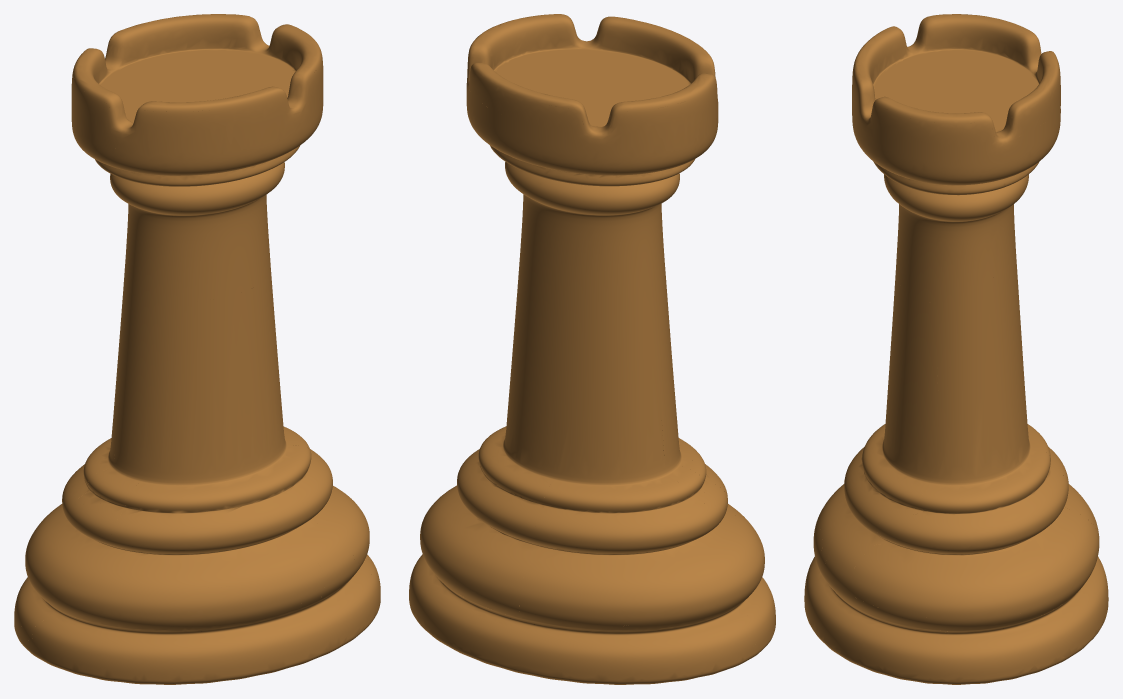
File: gercek3_r_w.glb
3 renders of one model, left to right at view 1: azimuth 30°, elevation 25°; view 2: azimuth 150°, elevation 25°; view 3: azimuth 270°, elevation 25°, orthographic. The views are drawn at different scales.
Parts seen in each view (by area): view 1: Object_23, Object_24; view 2: Object_23, Object_24; view 3: Object_24, Object_23.
Boxes of the visible parts, box(x1,y1,x2,y2) form: Object_23: box(14, 54, 380, 684); Object_24: box(18, 14, 371, 640); Object_23: box(409, 52, 775, 684); Object_24: box(420, 14, 758, 662); Object_24: box(820, 14, 1099, 647); Object_23: box(804, 63, 1108, 684).
Bounding box in the file's own units: 1.37 × 2.23 × 1.11.
